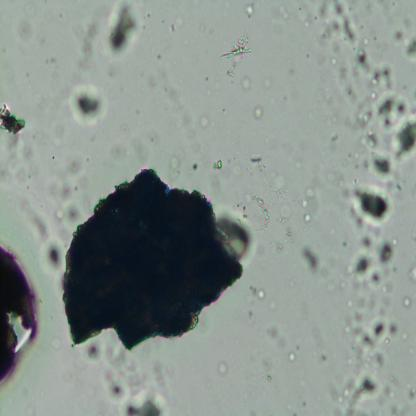Background material: (85, 339, 180, 416), (0, 246, 36, 384), (152, 64, 200, 153), (342, 232, 397, 299), (105, 0, 148, 60), (377, 93, 414, 162), (344, 184, 398, 226), (352, 315, 389, 375), (330, 374, 379, 416), (237, 196, 287, 234), (44, 182, 87, 226), (320, 0, 358, 46), (72, 81, 110, 126), (225, 32, 256, 82), (0, 148, 39, 186), (0, 99, 32, 145), (75, 14, 94, 73), (391, 24, 416, 63), (336, 58, 357, 104), (60, 153, 90, 183), (366, 150, 396, 178), (126, 133, 161, 157), (39, 240, 66, 271), (360, 106, 378, 150), (294, 245, 320, 274), (332, 110, 367, 130), (264, 170, 288, 199), (371, 60, 393, 90), (46, 114, 64, 148), (166, 156, 186, 185), (343, 299, 364, 321), (357, 48, 372, 76), (245, 152, 262, 176), (298, 4, 317, 23), (298, 187, 314, 209), (33, 213, 47, 238), (279, 0, 293, 24), (21, 198, 36, 219), (269, 330, 286, 348), (346, 152, 360, 172), (386, 321, 400, 340), (270, 240, 285, 257), (249, 286, 266, 301), (20, 20, 32, 41), (379, 385, 393, 403), (38, 54, 58, 66), (171, 16, 182, 35), (244, 2, 254, 22), (329, 172, 343, 186), (218, 361, 230, 377), (388, 405, 404, 416), (285, 228, 294, 246), (211, 158, 223, 171), (408, 267, 416, 285), (302, 212, 314, 224), (407, 386, 416, 401), (262, 79, 272, 91), (242, 78, 252, 90), (342, 324, 352, 335), (391, 233, 398, 248), (362, 37, 372, 47), (328, 282, 337, 293), (368, 88, 376, 100), (404, 298, 411, 310), (269, 300, 276, 312), (247, 309, 253, 323), (264, 373, 273, 382), (300, 398, 308, 408), (288, 352, 295, 363), (408, 345, 414, 357), (330, 133, 338, 142), (401, 332, 408, 342), (264, 360, 271, 370), (256, 109, 262, 120), (370, 34, 378, 42), (290, 67, 297, 76), (202, 117, 209, 126), (192, 161, 198, 171), (396, 183, 403, 191), (343, 238, 348, 249), (332, 58, 338, 67), (290, 411, 299, 416), (358, 24, 364, 31), (354, 178, 360, 183), (260, 371, 264, 378), (306, 52, 310, 58), (392, 1, 396, 6)
Fragment: (60, 165, 247, 355)
